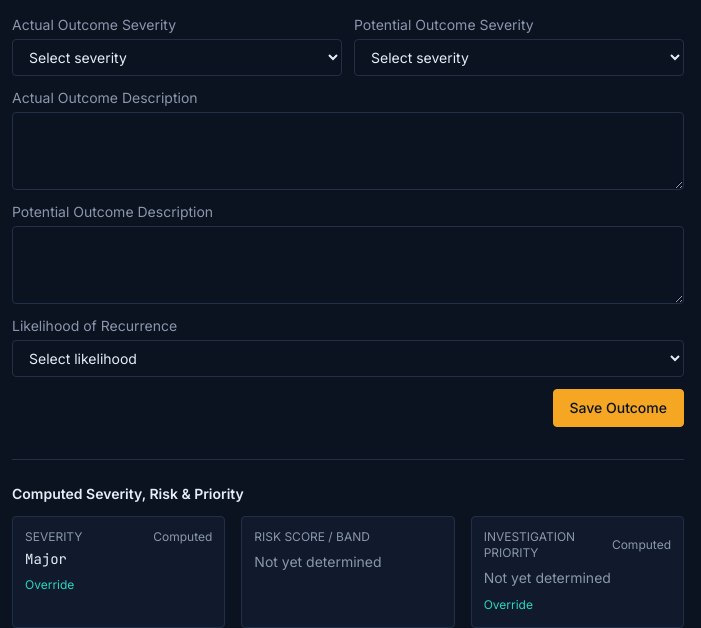
Test: ClassificationPanel — Override toggle › reveals a justification field and a severity-value select only after clicking Severity's Override button
(page scrolled)
Expected: the field with placeholder "Justification" is not shown
Click the button "Override" below "Major".
click(50, 585)  # box x1=25 y1=577 x2=74 y2=593
(page scrolled)
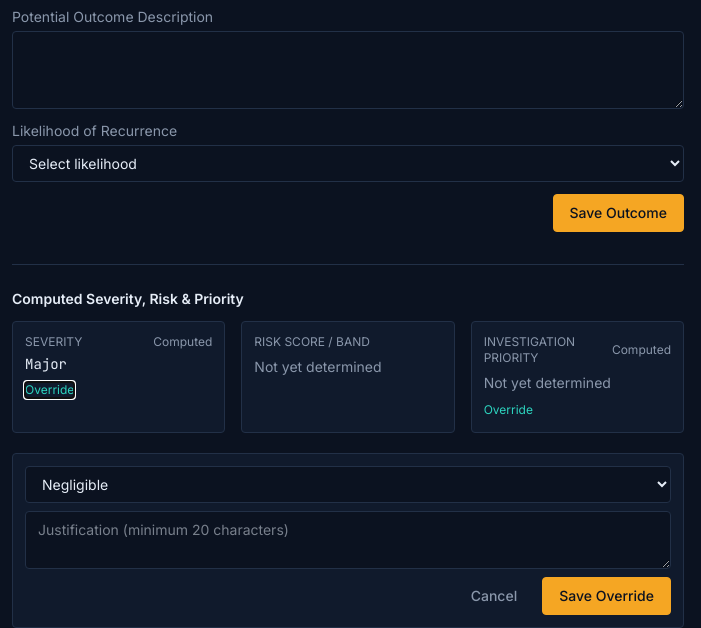
Expected: the text box with placeholder "Justification (minimum 20 characters)" is shown, x1=25 y1=511 x2=671 y2=569
Expected: the dropdown named "severityValue" is shown, x1=25 y1=466 x2=671 y2=503
